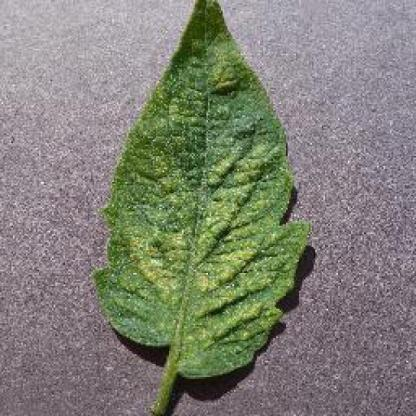Tomato_Spider_Mites: (96, 0, 305, 378)
